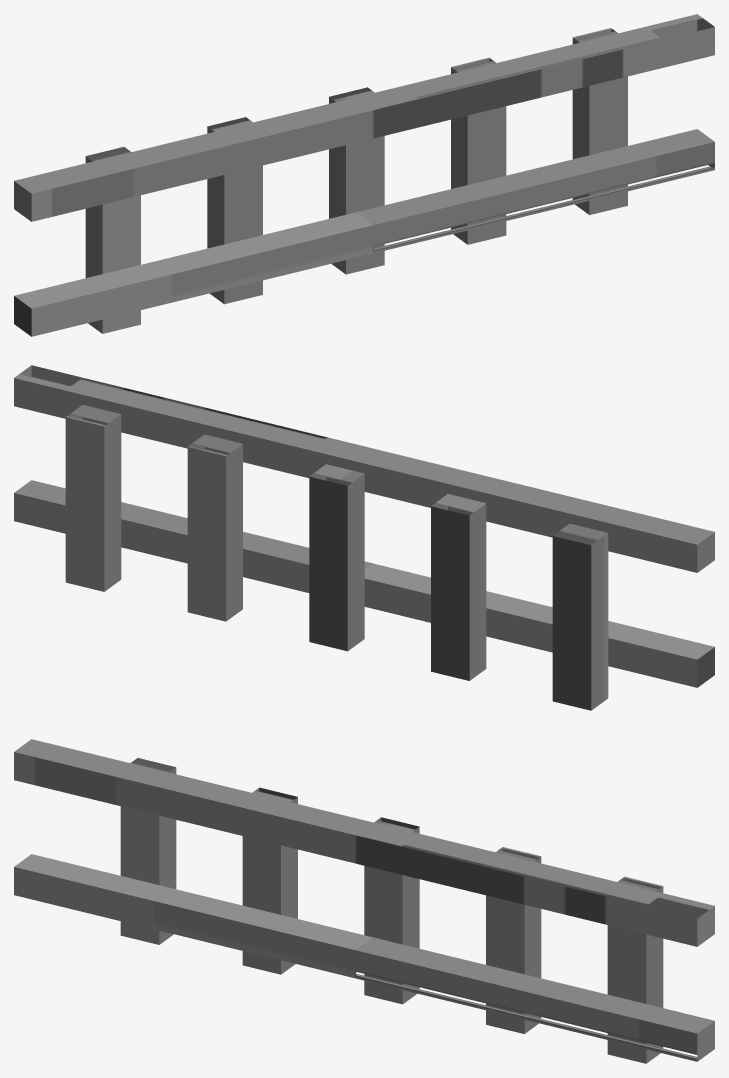
3 views of the same model, one above another, from view 1: azimuth 30°, elevation 25°; view 2: azimuth 150°, elevation 25°; view 3: azimuth 330°, elevation 25° (orthographic).
Size of the model in its own units: 1.03 by 0.2529 by 0.0912.
